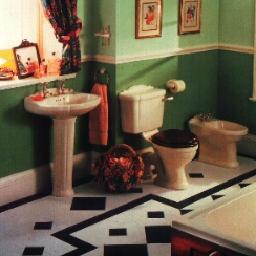Lavamanos: (31, 84, 98, 204)
Sanitario: (132, 91, 198, 193), (192, 117, 248, 174)
